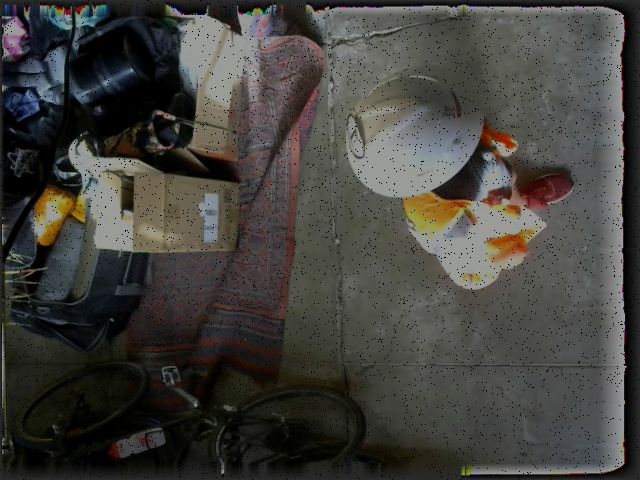one: (346, 115, 364, 160)
